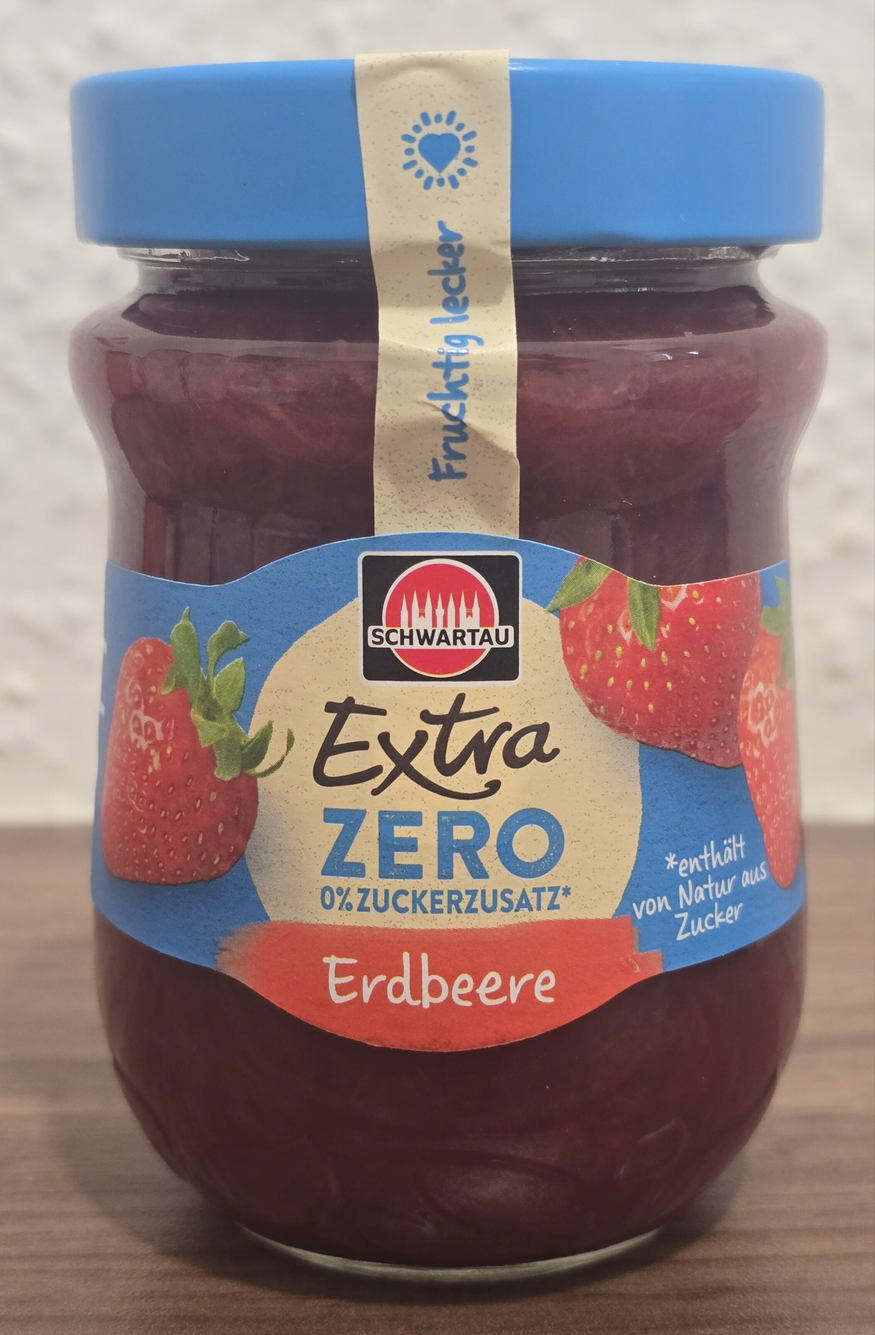Erdbeermarmelade ohne Zuckerzusatz: (44, 67, 831, 1268)
